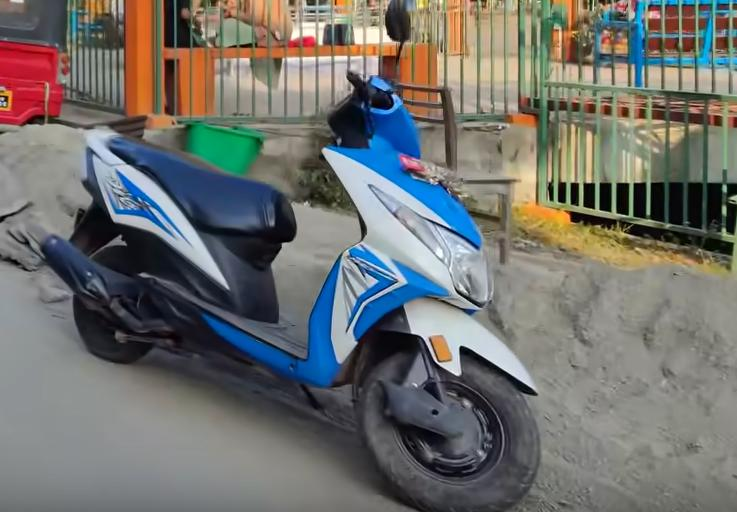scooter: (34, 67, 547, 512)
